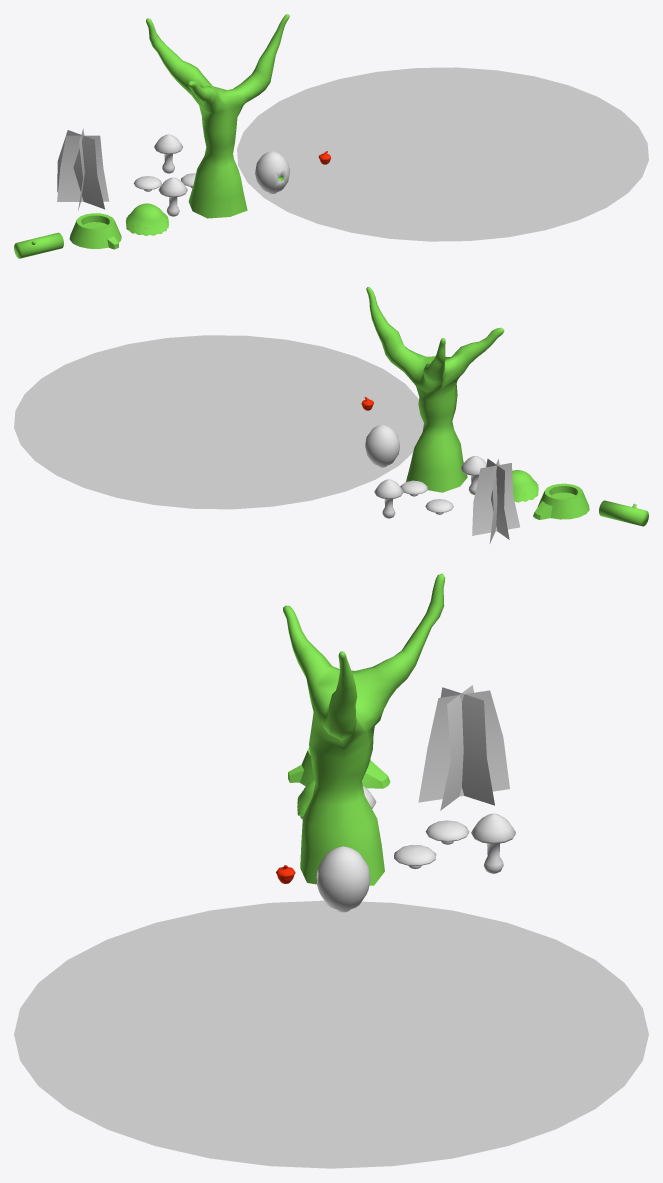
The model's file is Blocagem_MiniGame_SnackAttack.fbx.
3 views of the same model, one above another, from view 1: azimuth 30°, elevation 25°; view 2: azimuth 150°, elevation 25°; view 3: azimuth 270°, elevation 25° (orthographic). The views are drawn at different scales.
Parts seen in each view (by area): view 1: Circle.001, Tree_Dry, Plane.019, Cylinder.007, Cylinder.010, Sphere.002, Cylinder, Cylinder.020, Cylinder.025; view 2: Circle.001, Tree_Dry, Plane.019, Cylinder.007, Cylinder.010, Cylinder, Sphere.002, Cylinder.025, Cylinder.020; view 3: Circle.001, Tree_Dry, Plane.019, Cylinder.010, Cylinder.025, Cylinder.007.
Part boxes in pixels (box(x1,y1,x2,y2)): Circle.001: box(237, 67, 648, 241); Tree_Dry: box(146, 14, 289, 218); Plane.019: box(57, 128, 109, 210); Cylinder.007: box(69, 213, 121, 249); Cylinder.010: box(255, 151, 289, 193); Sphere.002: box(125, 203, 168, 235); Cylinder: box(14, 232, 63, 258); Cylinder.020: box(158, 177, 187, 216); Cylinder.025: box(154, 134, 182, 173); Circle.001: box(14, 335, 423, 509); Tree_Dry: box(366, 287, 504, 492); Plane.019: box(472, 459, 519, 543); Cylinder.007: box(533, 483, 589, 519); Cylinder.010: box(365, 424, 400, 467); Cylinder: box(599, 500, 648, 526); Sphere.002: box(512, 470, 538, 502); Cylinder.025: box(374, 479, 403, 518); Cylinder.020: box(460, 456, 486, 494); Circle.001: box(14, 900, 648, 1168); Tree_Dry: box(283, 573, 445, 885); Plane.019: box(418, 685, 509, 810); Cylinder.010: box(316, 846, 370, 912); Cylinder.025: box(471, 813, 515, 873); Cylinder.007: box(288, 747, 390, 788).
Size of the model in its own units: 3630 by 1020 by 2151.
